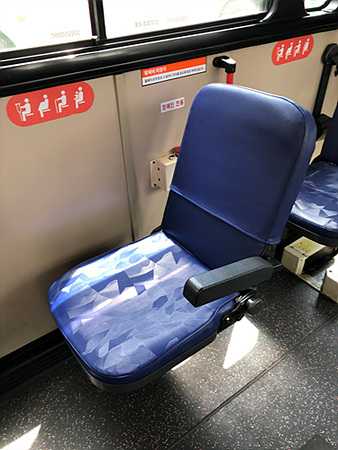seat: (48, 84, 318, 391)
